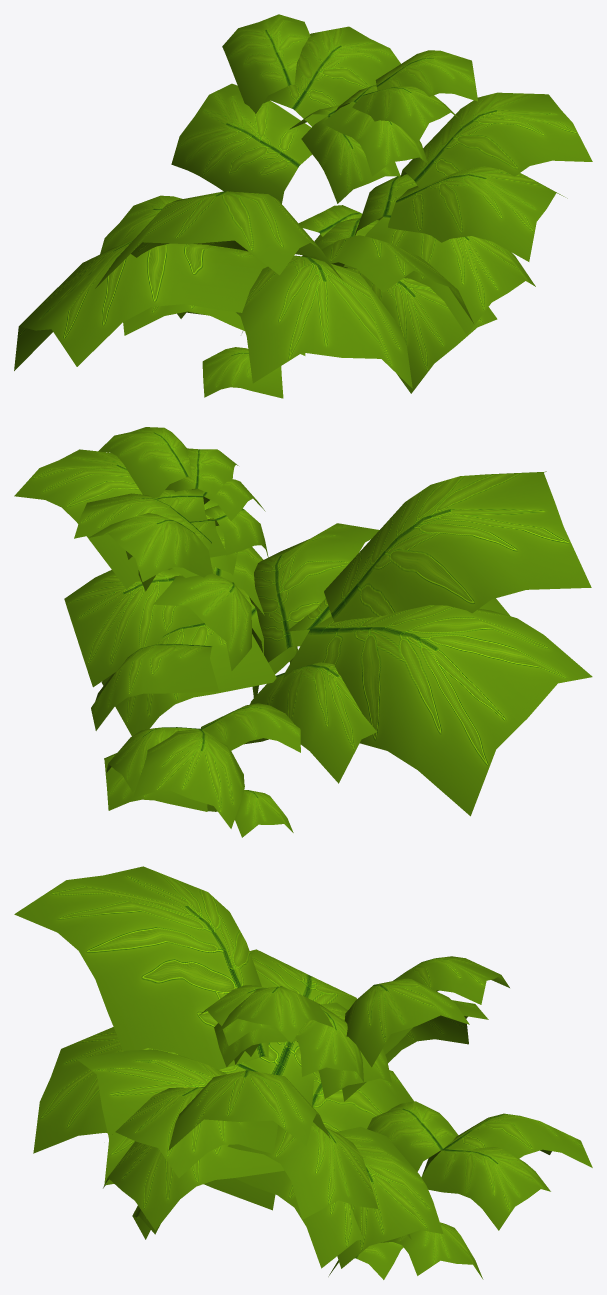
File: BambooSet_part_28.fbx
3 views of the same model, one above another, from view 1: azimuth 30°, elevation 25°; view 2: azimuth 150°, elevation 25°; view 3: azimuth 270°, elevation 25° (orthographic). The views are drawn at different scales.
Parts seen in each view (by area): view 1: Object_51.001; view 2: Object_51.001; view 3: Object_51.001.
Boxes of the visible parts, x1=… form: Object_51.001: x1=14, y1=14, x2=592, y2=398; Object_51.001: x1=14, y1=427, x2=592, y2=837; Object_51.001: x1=14, y1=866, x2=592, y2=1279.
Bounding box in the file's own units: 1426 × 854 × 1278.
